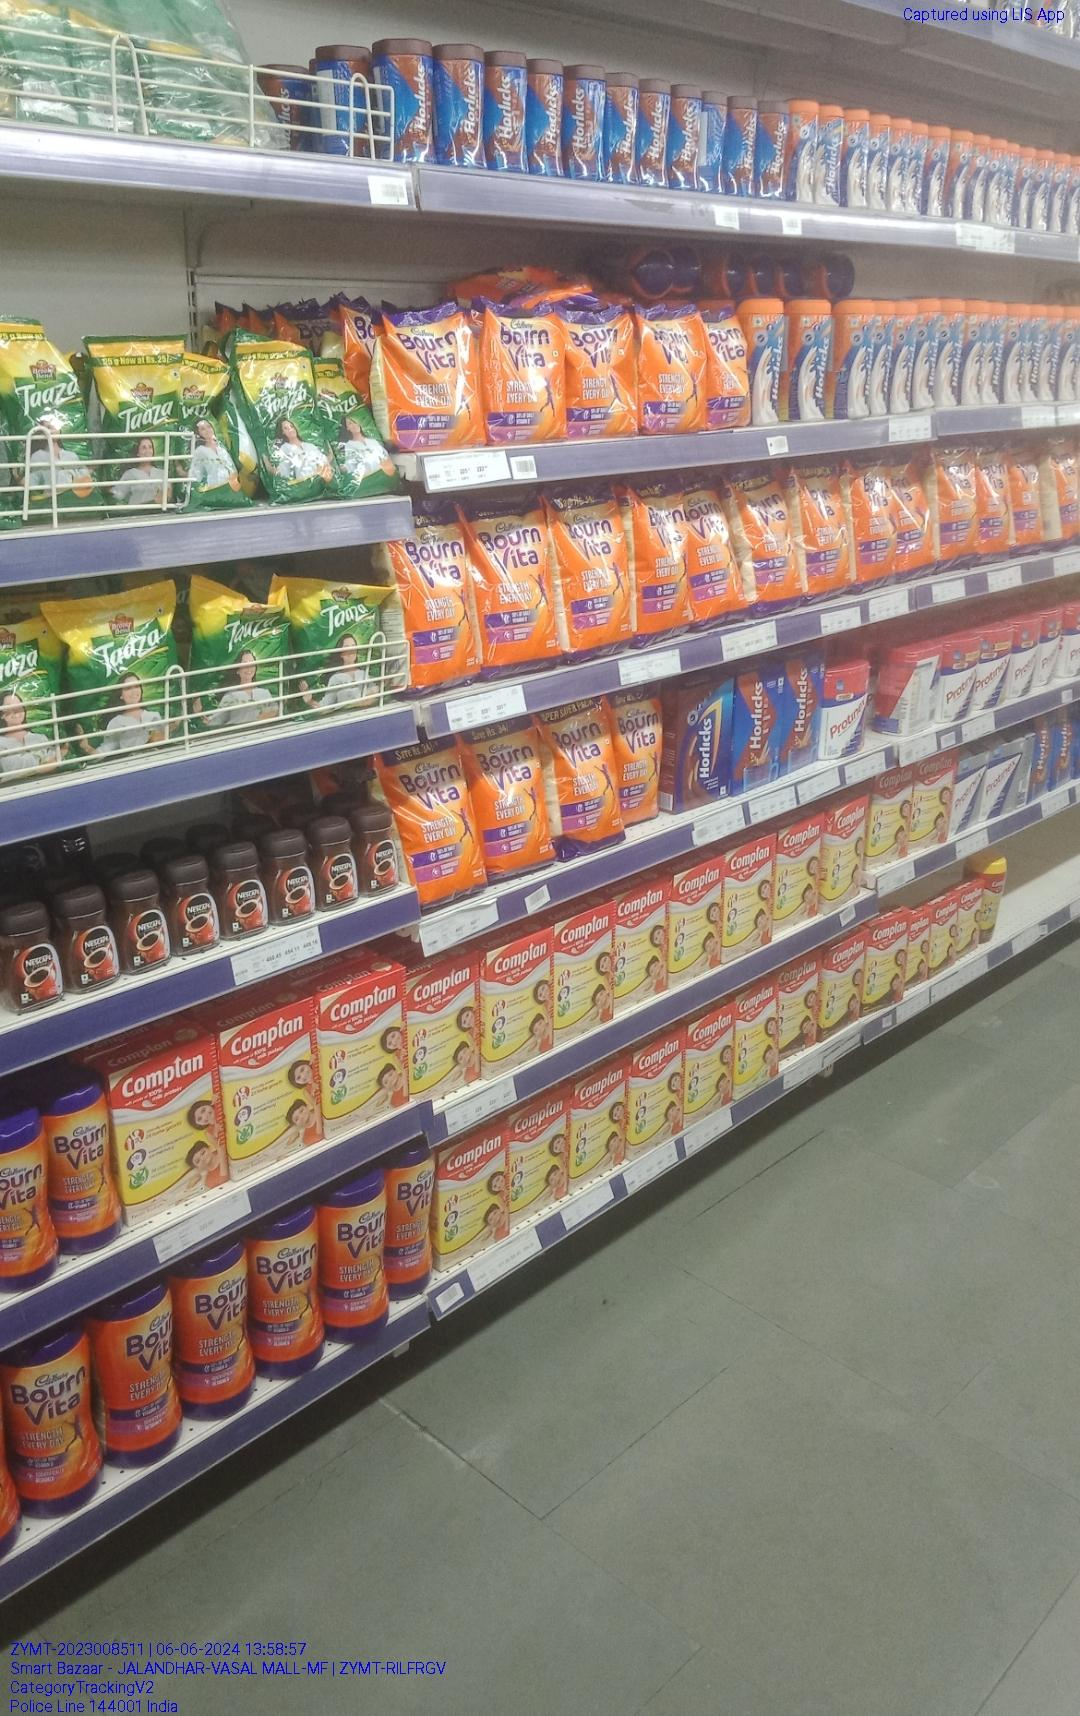BOURN_VITA_1_KG_JAR: (14, 1330, 98, 1521), (100, 1282, 177, 1473), (179, 1244, 251, 1419), (253, 1210, 326, 1378), (328, 1175, 389, 1344), (389, 1147, 433, 1297)
COMPLAN_CHOCOLATE_200_GMS_PACK: (867, 916, 908, 1012), (822, 941, 864, 1034), (779, 961, 816, 1052)
COMPLAN_KESAR_BADAM_200_GMS_PACK: (406, 968, 479, 1094), (438, 1137, 508, 1268), (489, 933, 555, 1065), (555, 913, 612, 1030), (510, 1109, 571, 1215), (630, 1038, 684, 1151), (615, 884, 666, 998), (671, 866, 722, 979), (725, 844, 775, 957), (575, 1070, 626, 1176), (687, 1010, 733, 1112), (775, 825, 819, 930), (825, 801, 865, 911), (866, 775, 915, 864), (916, 755, 953, 850)
HORLICK_CHOCOLATE_500_G_JAR: (438, 42, 484, 168), (391, 39, 433, 162), (486, 50, 526, 172), (564, 63, 605, 180), (526, 57, 562, 174), (638, 76, 672, 185), (606, 71, 637, 184), (758, 100, 788, 202), (725, 95, 755, 195), (673, 83, 698, 188)
HORLICK_CHOCOLATE_500_G_PACK: (733, 669, 783, 789), (785, 653, 819, 773)
HORLICK_CLASSIC_MALT_500_G_JAR: (786, 297, 830, 419), (748, 296, 785, 424)
PROTINEX_CHOCOLATE_400_G_JAR: (822, 663, 867, 757)
